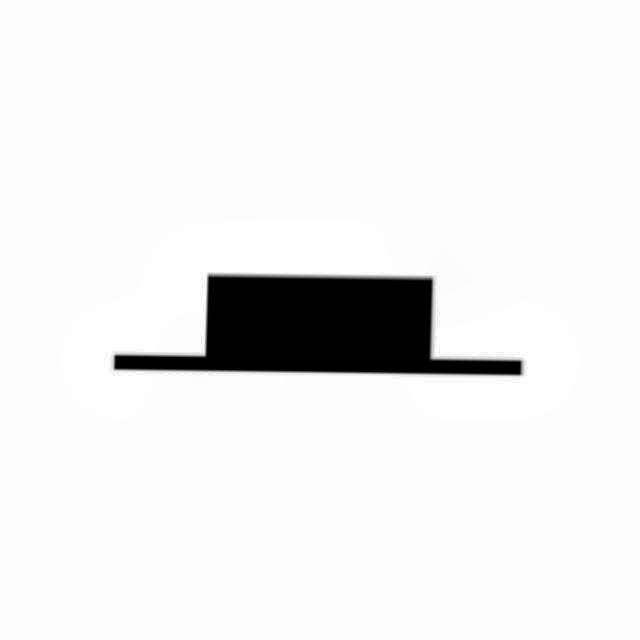Half-rest: (62, 258, 554, 388)
